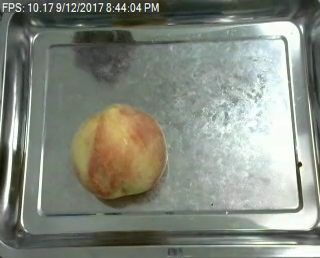Peach: (71, 103, 168, 199)
